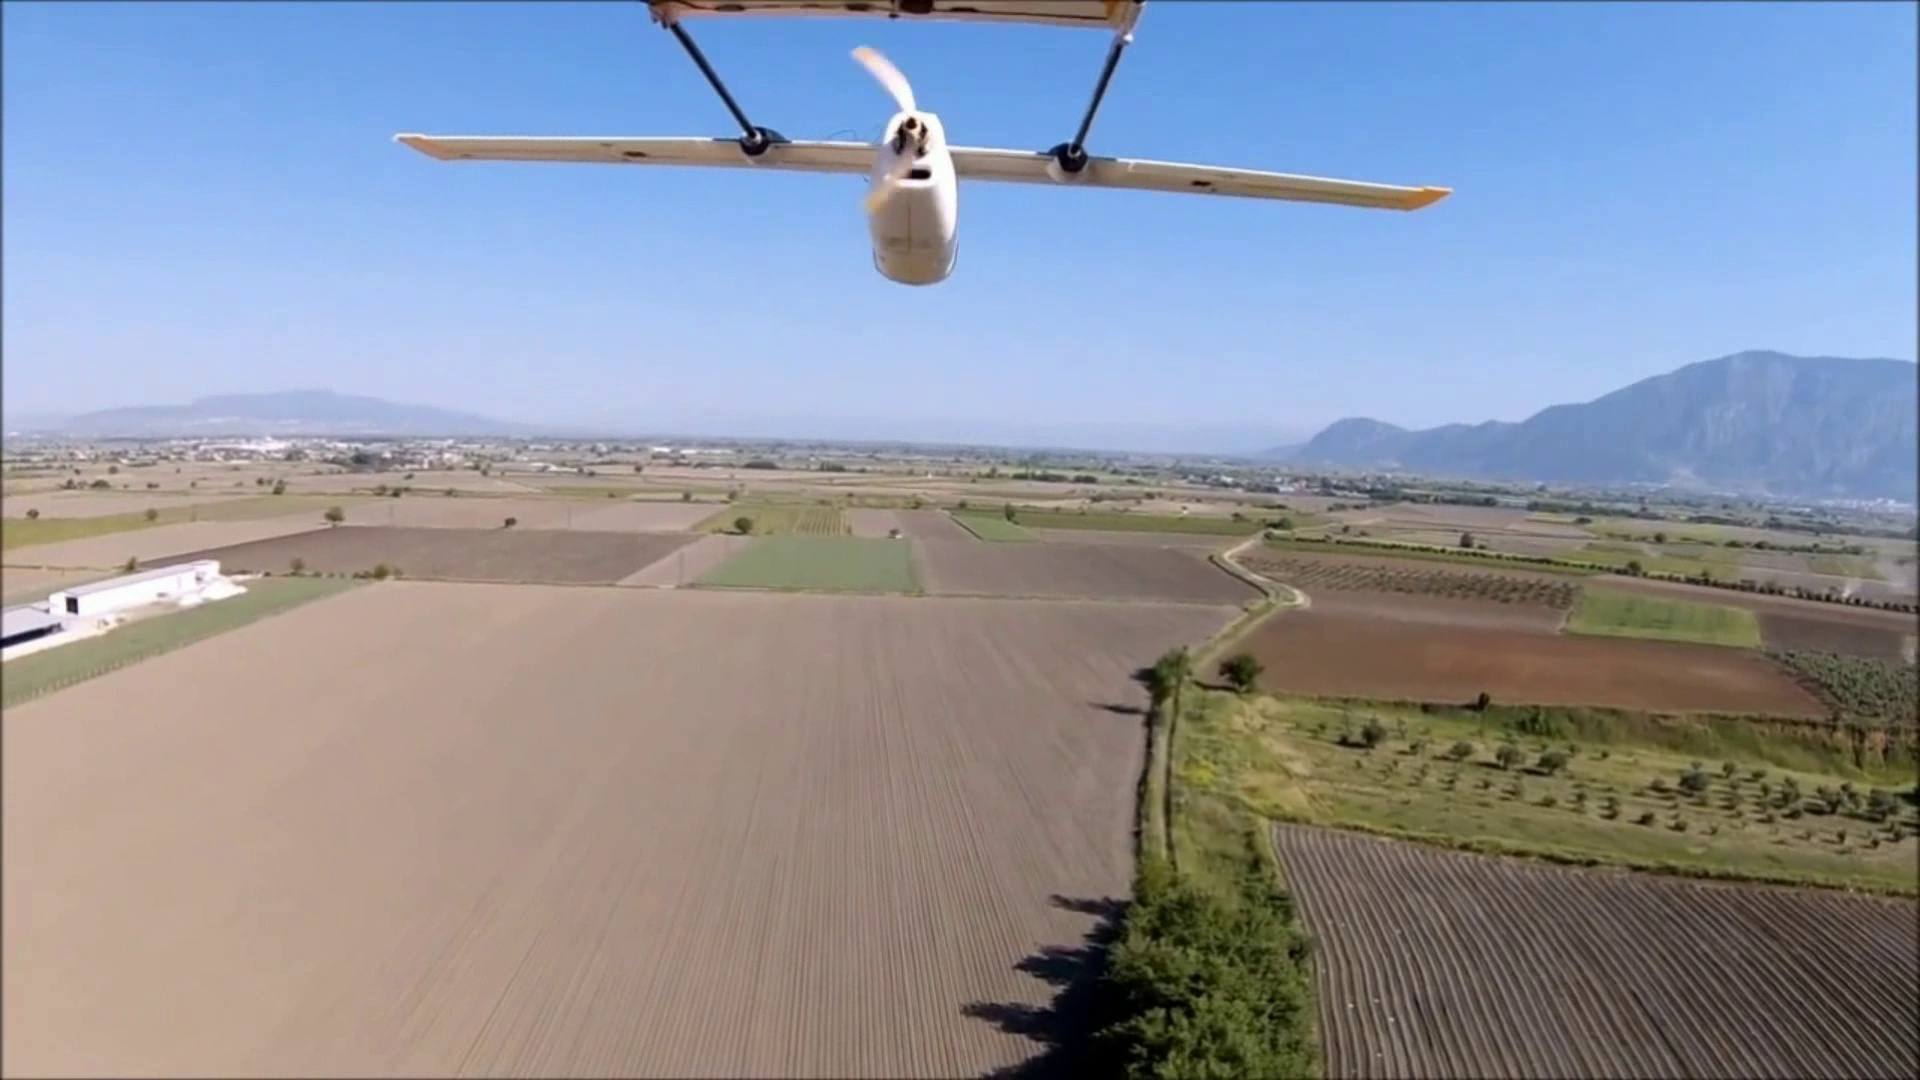airplane: (394, 5, 1447, 284)
